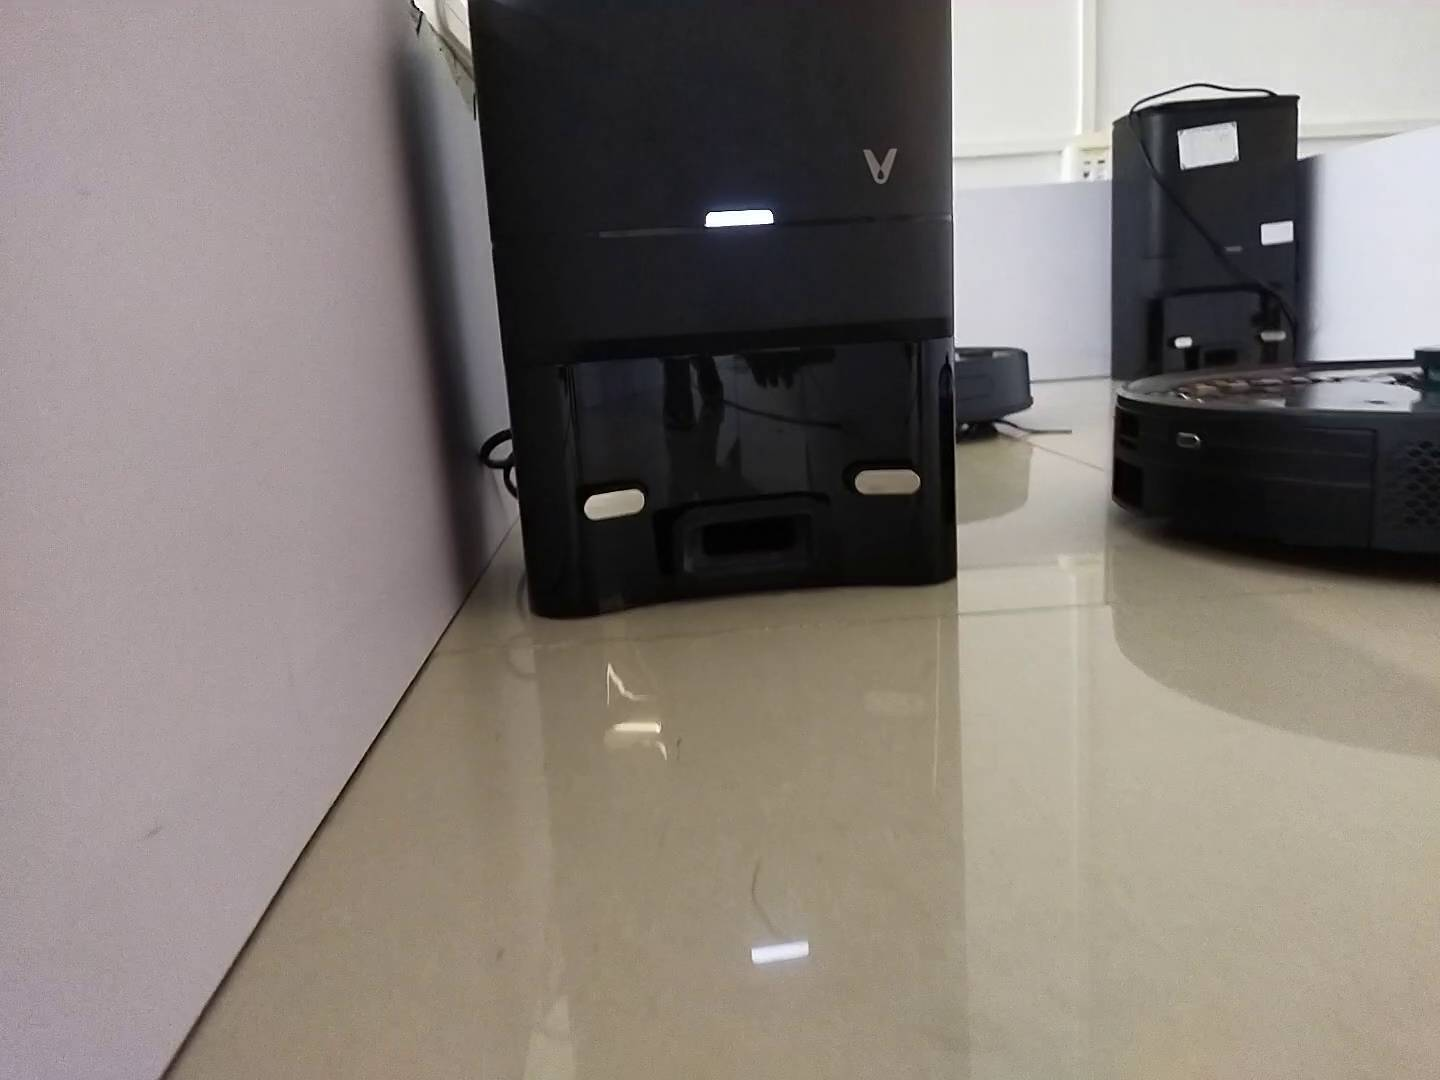dust collecting barrel: (466, 1, 958, 621), (1111, 96, 1301, 377)
